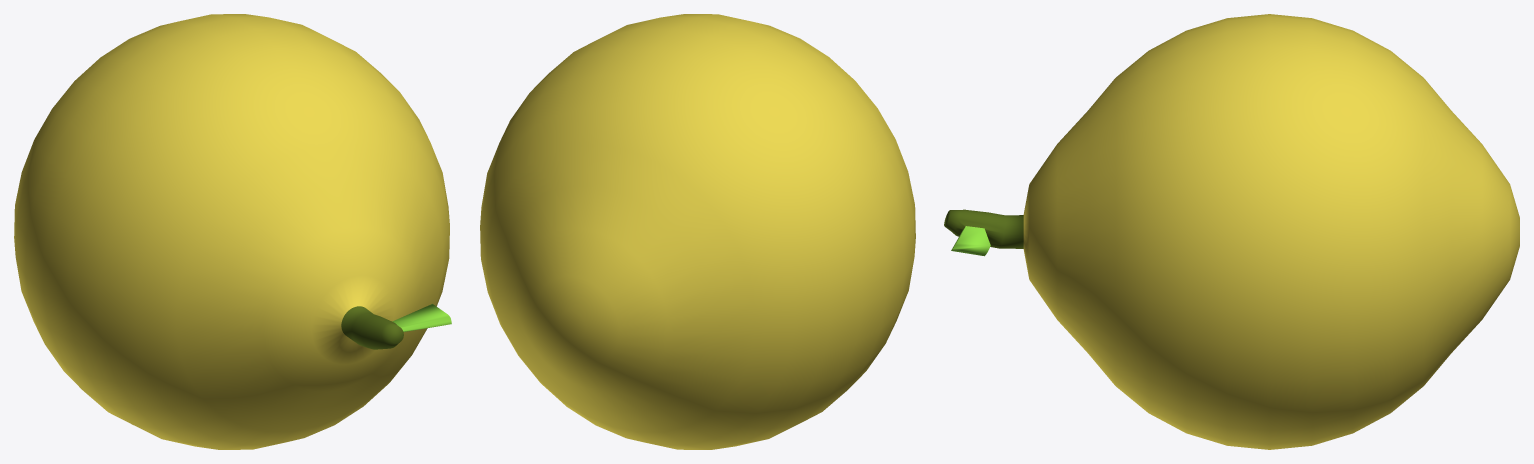
The model's file is limao.fbx.
The picture shows the model from 3 angles, left to right: view 1: azimuth 30°, elevation 25°; view 2: azimuth 150°, elevation 25°; view 3: azimuth 270°, elevation 25°; orthographic projection.
Visible parts, largest first — view 1: Sphere; view 2: Sphere; view 3: Sphere.
Part boxes in pixels (bbox=[...]): Sphere: bbox=[14, 14, 451, 449]; Sphere: bbox=[480, 14, 915, 449]; Sphere: bbox=[944, 14, 1519, 449].
Bounding box in the file's own units: 199 × 199 × 264.
